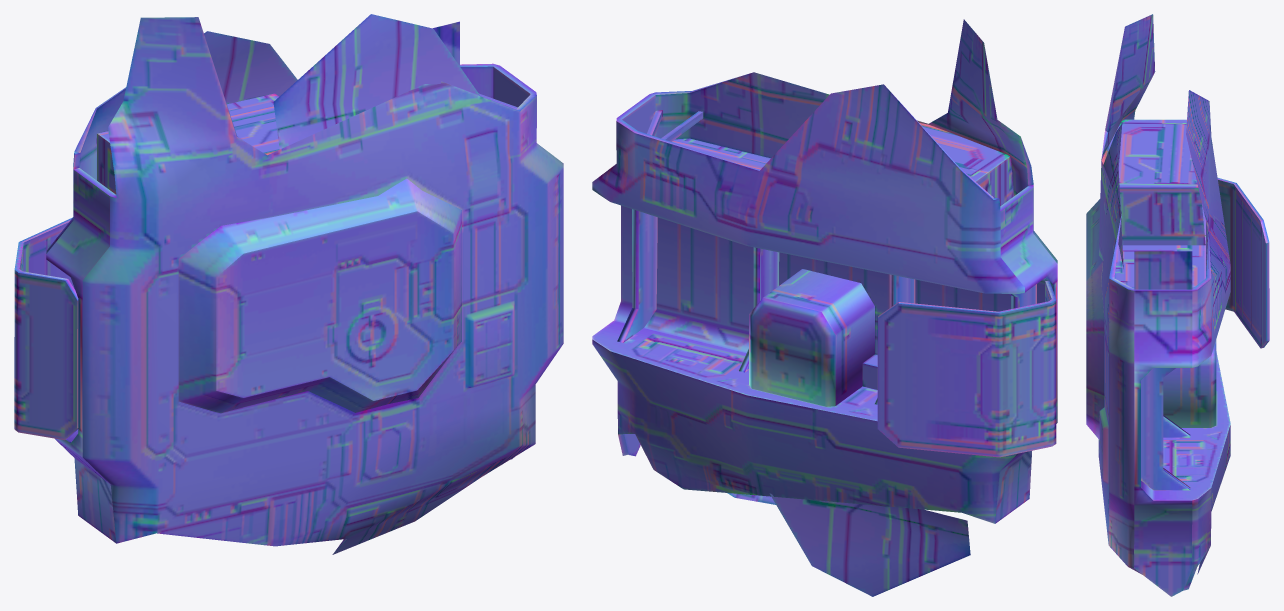
File: ship_debris_04_part_01.glb
The picture shows the model from 3 angles, left to right: view 1: azimuth 30°, elevation 25°; view 2: azimuth 150°, elevation 25°; view 3: azimuth 270°, elevation 25°; orthographic projection. The views are drawn at different scales.
Visible parts, largest first — view 1: ship_debris_04_part_01; view 2: ship_debris_04_part_01; view 3: ship_debris_04_part_01.
Boxes of the visible parts, x1=… form: ship_debris_04_part_01: x1=14, y1=14, x2=563, y2=554; ship_debris_04_part_01: x1=592, y1=19, x2=1057, y2=596; ship_debris_04_part_01: x1=1086, y1=14, x2=1269, y2=596.
Bounding box in the file's own units: 6.81 × 7.94 × 2.64.
Materials: 1 (1 with a texture image).
